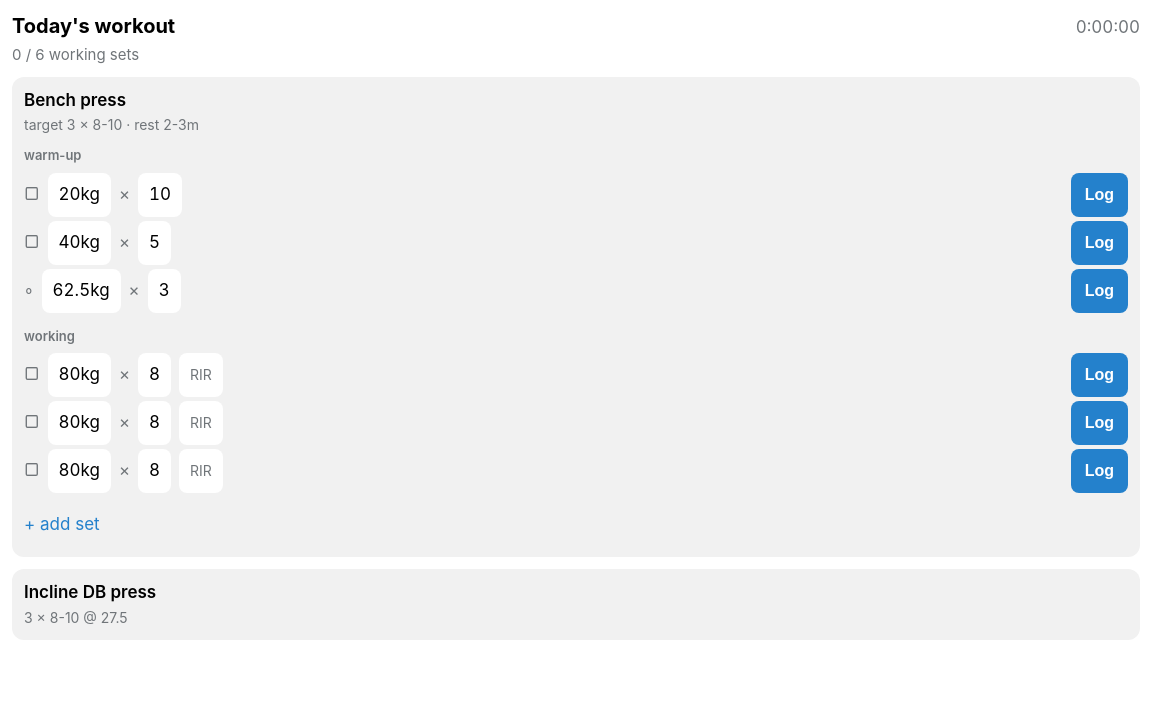
it: the session screen › tapping a collapsed card expands it instead
Expected: the text "Bench press" is shown, [24,89,126,113]
Click the button "Incline DB press 3 × 8-10 @ 27.5": point(90, 592) [24,581,1128,628]
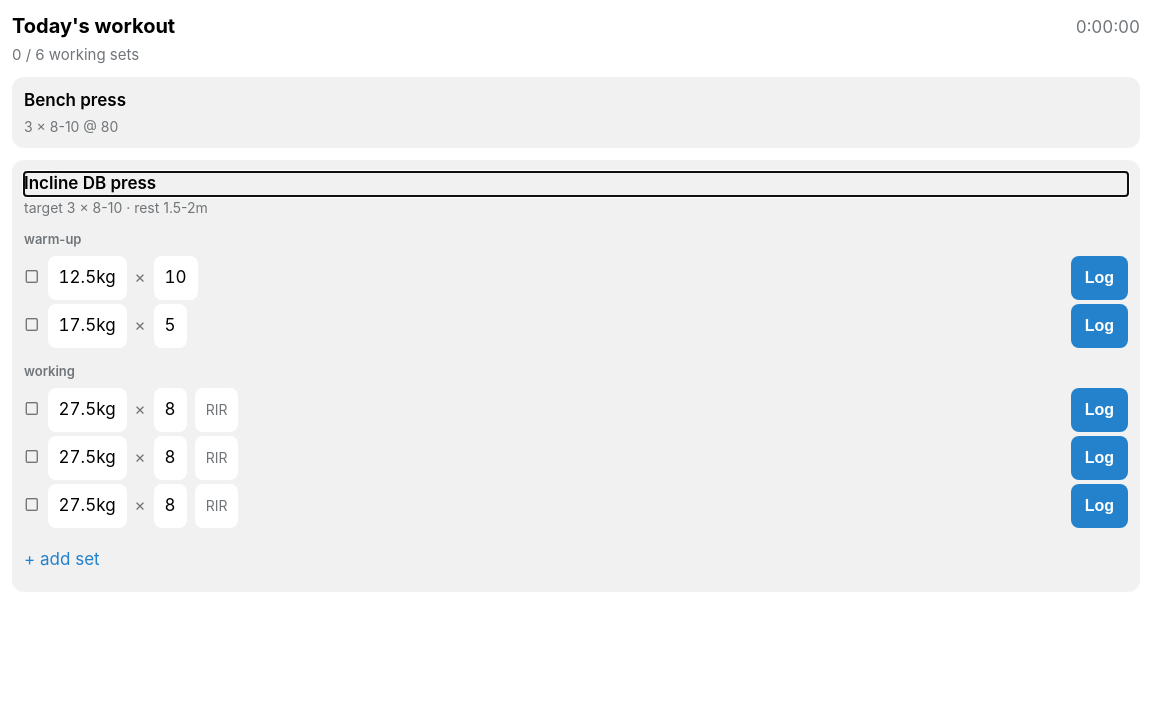
Now the button "Incline DB press" is expanded, box [24,172,1128,196]
